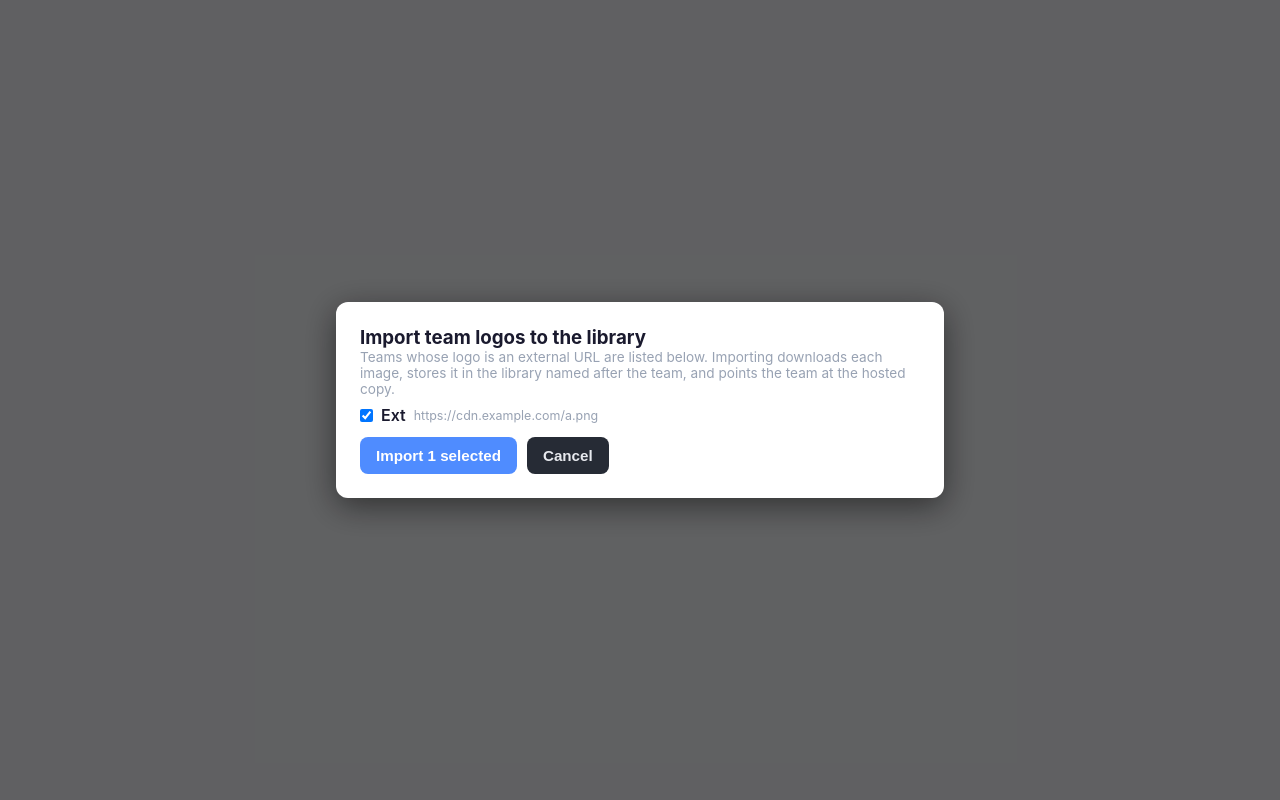
Test: IconBatchImportDialog › lists only teams with external URLs, preselected, and reports results
This screenshot has width=1280, height=800.
Check: the icon "Ext" is shown, box x1=381 y1=405 x2=406 y2=425
What coordinates should you click on to do the following:
click the button "Import 1 selected"
I would click on:
 (438, 456)
Its box is x1=360 y1=437 x2=517 y2=474.
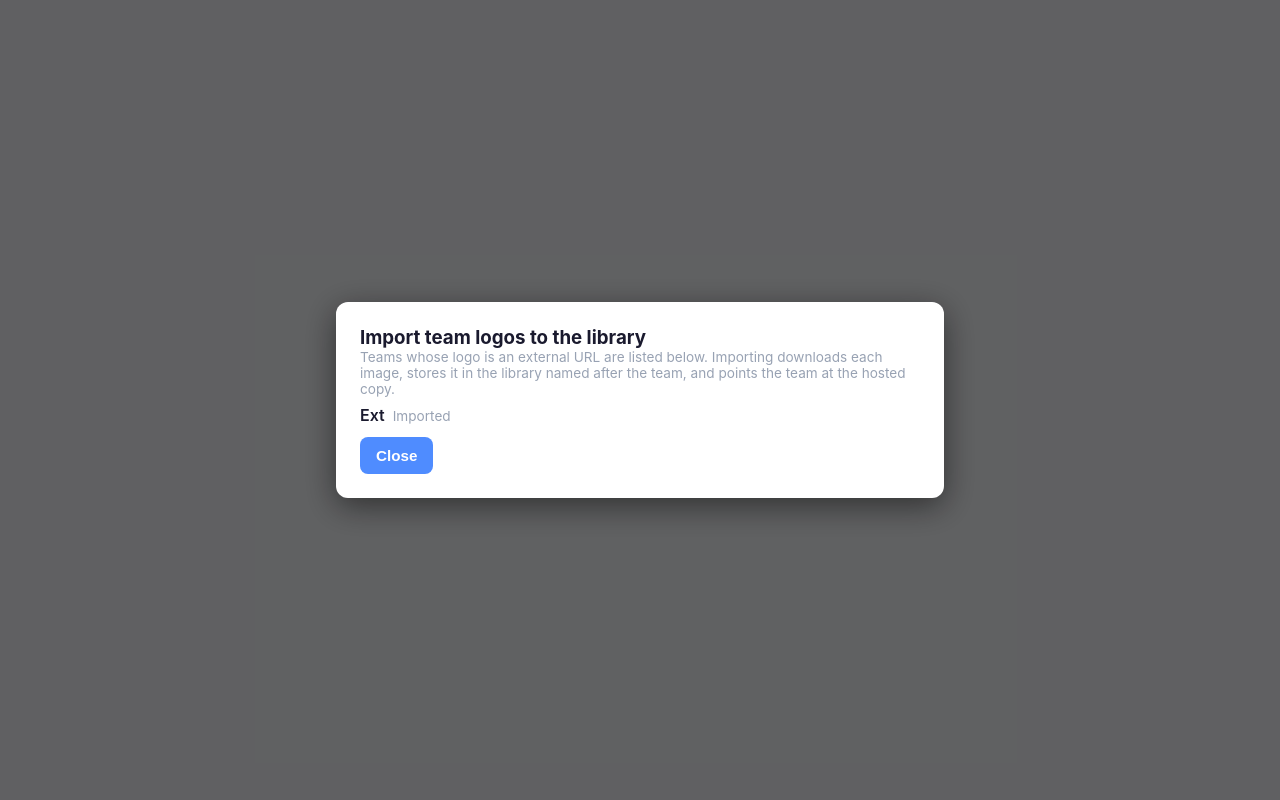
Check: the text "Imported" is shown, box x1=393 y1=408 x2=451 y2=424
